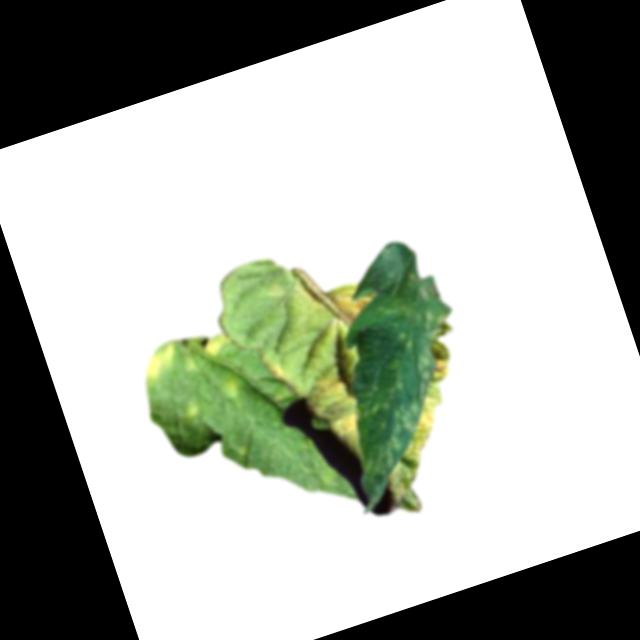Leaf_Mold: (371, 334, 482, 473), (299, 363, 369, 459), (319, 278, 382, 335), (256, 345, 301, 404), (138, 340, 186, 388), (197, 330, 235, 365), (216, 373, 252, 406)
